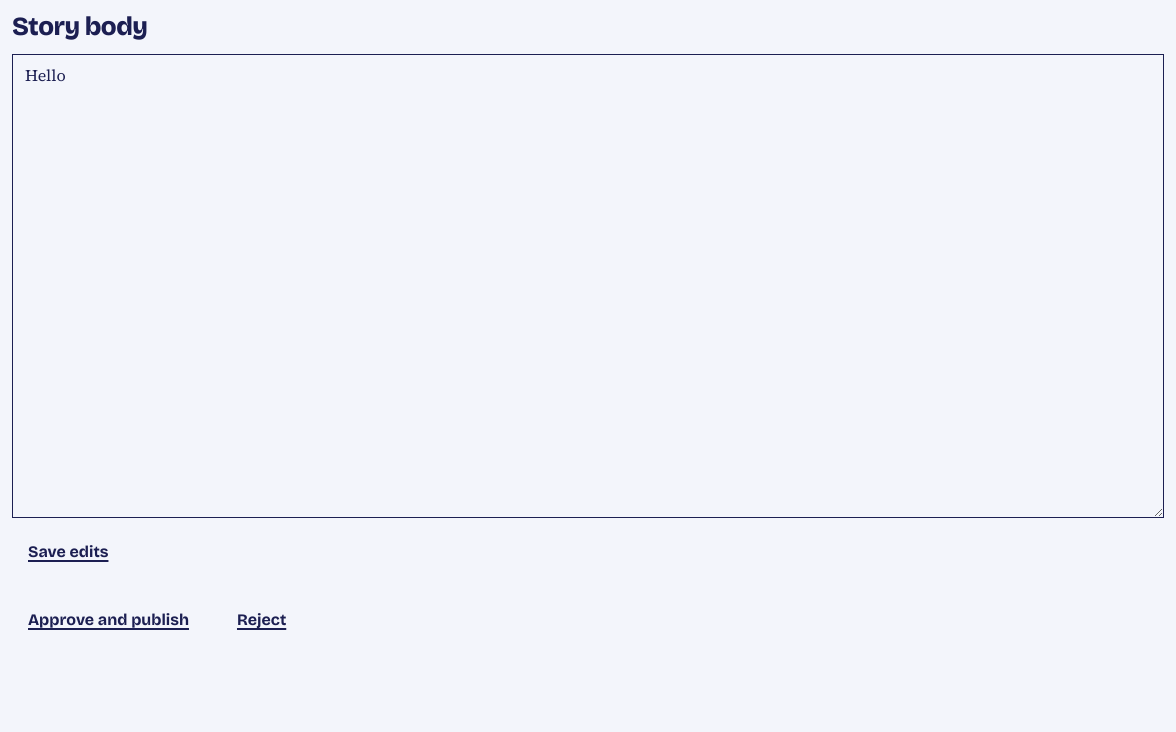
it: ReviewActions › shows an action error in an alert region
Click the button "Reject".
click(262, 620)  # box [221,598,302,642]
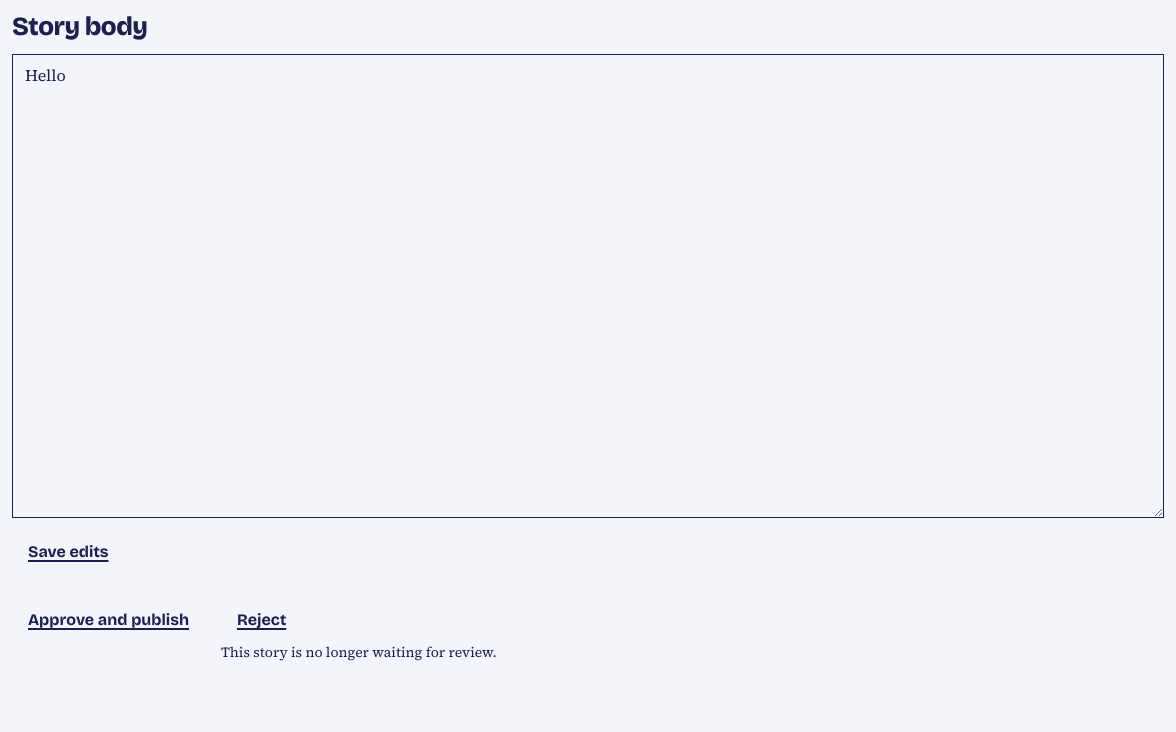
Result: the message reads "This story is no longer waiting for review." at [221,642,497,662]
